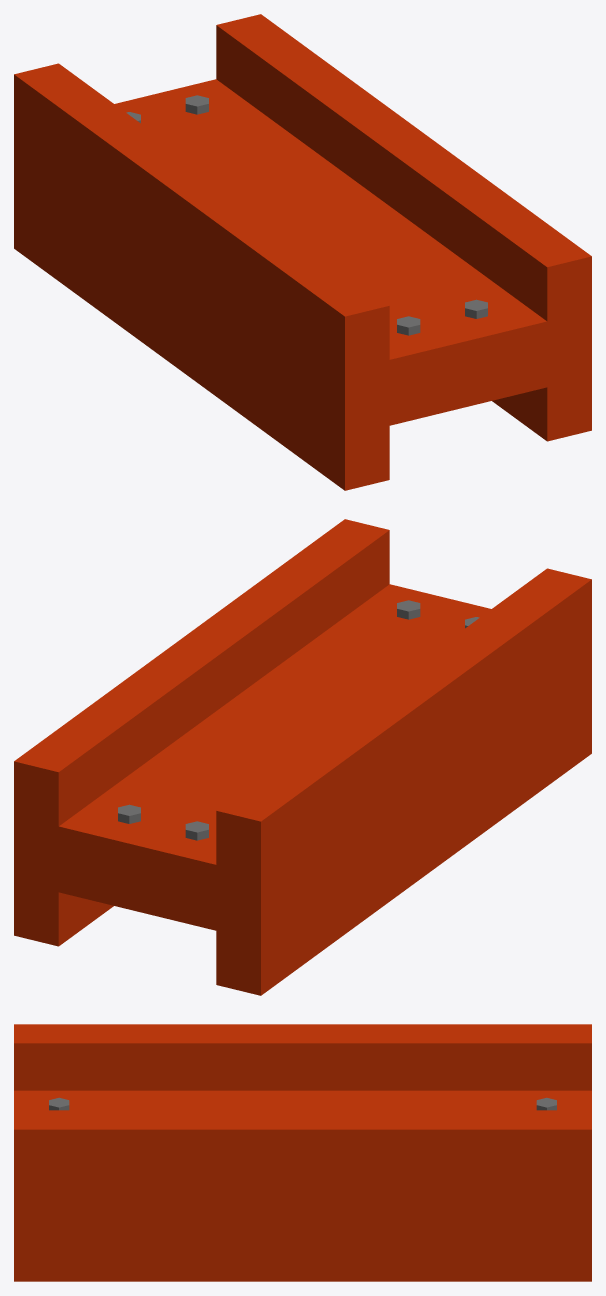
File: Prop_Industrial_Beam_H_Bolted_01.FBX
3 views of the same model, one above another, from view 1: azimuth 30°, elevation 25°; view 2: azimuth 150°, elevation 25°; view 3: azimuth 270°, elevation 25° (orthographic). The views are drawn at different scales.
Parts seen in each view (by area): view 1: Prop_Industrial_Beam_H_Bolted_01; view 2: Prop_Industrial_Beam_H_Bolted_01; view 3: Prop_Industrial_Beam_H_Bolted_01.
Boxes of the visible parts, x1=… form: Prop_Industrial_Beam_H_Bolted_01: x1=14, y1=14, x2=591, y2=490; Prop_Industrial_Beam_H_Bolted_01: x1=14, y1=519, x2=591, y2=995; Prop_Industrial_Beam_H_Bolted_01: x1=14, y1=1024, x2=591, y2=1281.
Size of the model in its own units: 862 by 581 by 2000.
